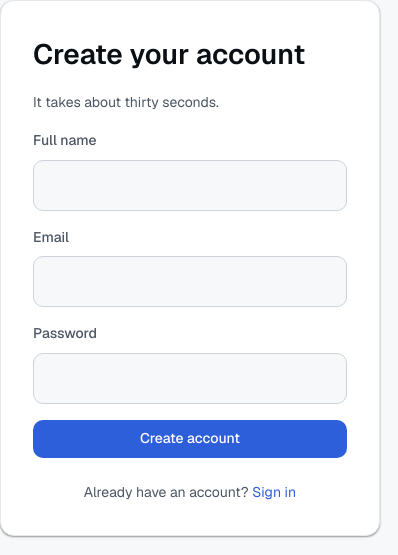
Test: RegisterForm › disables the submit button while the request is in flight
This screenshot has width=398, height=555.
Type "Jane Doe" into the field labelled "Full name" at (190,185), box [33,160,347,211]
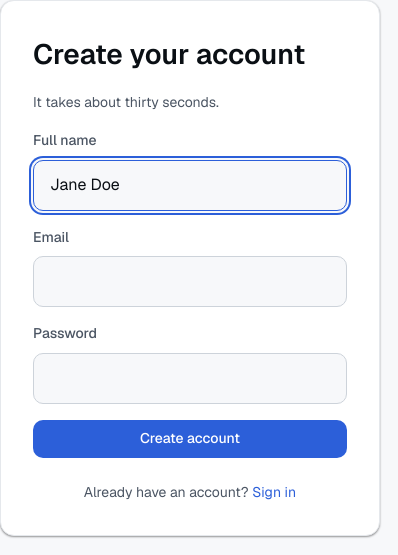
Type "jane@example.com" into the field labelled "Email" at (190,282), box [33,256,347,307]
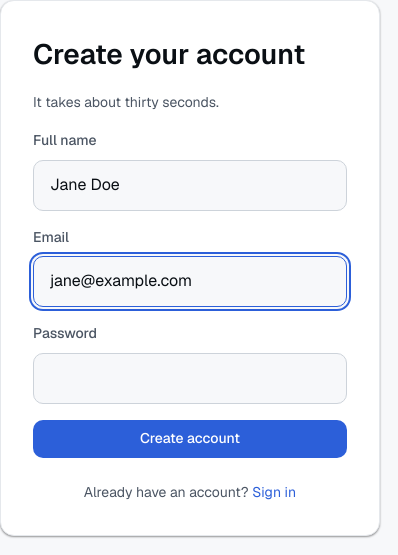
Type "password123" into the password field labelled "Password" at (190,378), box [33,353,347,404]
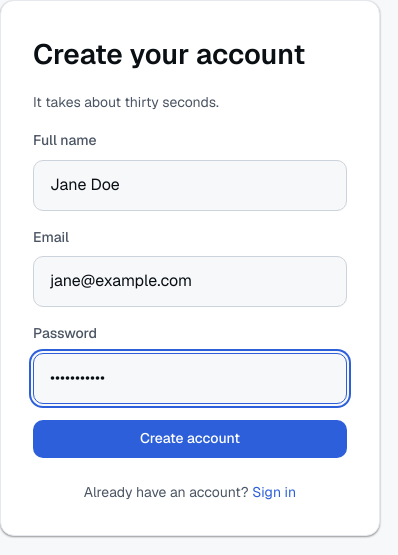
Click the button "Create account" at (190,438), box [33,420,347,458]
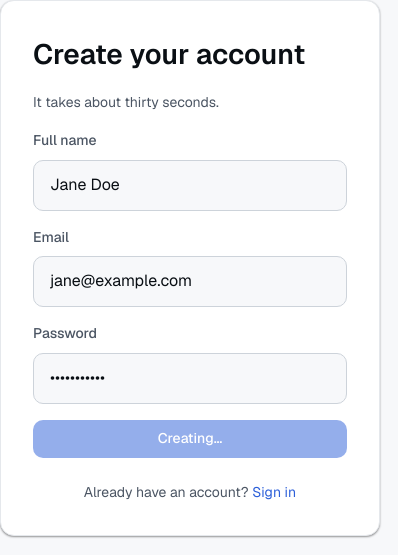
Expected: the button "Creating…" is disabled, [33,420,347,458]
